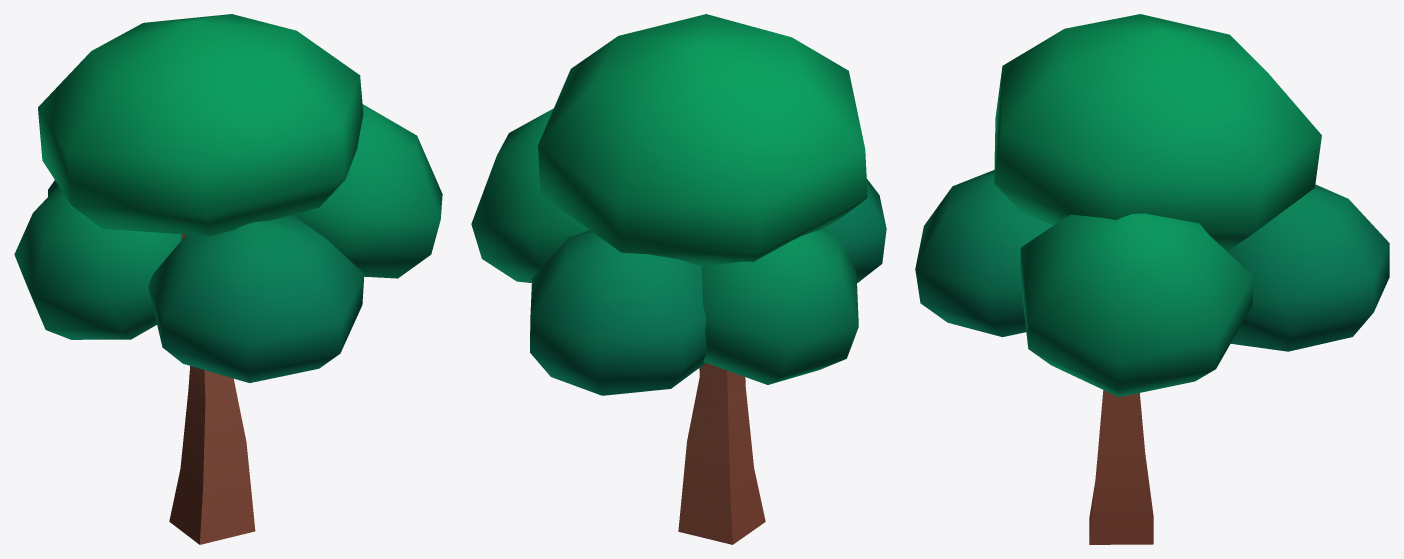
File: tree_E.glb
3 views of the same model, side by side, from view 1: azimuth 30°, elevation 25°; view 2: azimuth 150°, elevation 25°; view 3: azimuth 270°, elevation 25° (orthographic). The views are drawn at different scales.
Parts seen in each view (by area): view 1: tree_E; view 2: tree_E; view 3: tree_E.
Part boxes in pixels (bbox=[...]): tree_E: bbox=[14, 14, 442, 544]; tree_E: bbox=[471, 14, 886, 544]; tree_E: bbox=[915, 14, 1389, 544].
Size of the model in its own units: 0.884 by 1.07 by 0.9191.
Materials: 1 (1 with a texture image).
